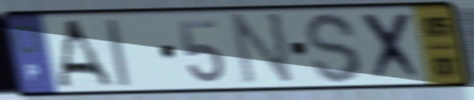5: (174, 17, 227, 85)
A: (55, 18, 118, 90)
I: (102, 16, 134, 90)
N: (230, 10, 297, 88)
S: (303, 10, 366, 86)
X: (358, 9, 428, 84)
